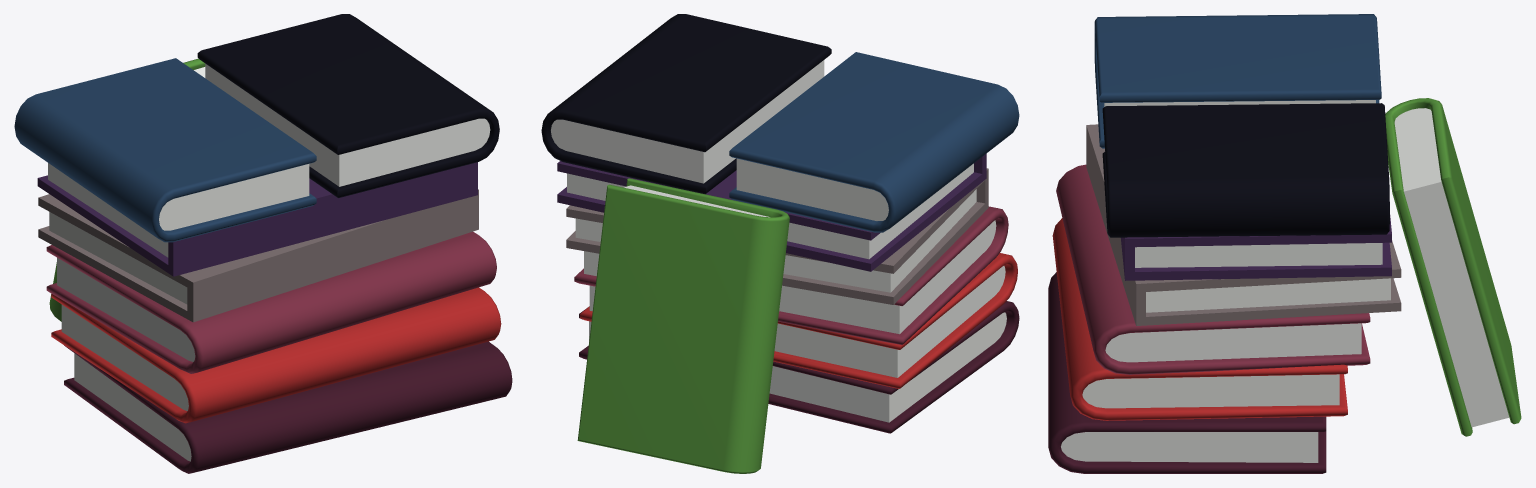
The model's file is 8livrosV1.fbx.
The picture shows the model from 3 angles, left to right: view 1: azimuth 30°, elevation 25°; view 2: azimuth 150°, elevation 25°; view 3: azimuth 270°, elevation 25°; orthographic projection. The views are drawn at different scales.
Parts seen in each view (by area): view 1: Cylinder.021; view 2: Cylinder.021; view 3: Cylinder.021.
Boxes of the visible parts, x1,y1,x2,y2 form: Cylinder.021: (14, 14, 512, 473); Cylinder.021: (541, 14, 1019, 473); Cylinder.021: (1048, 14, 1521, 473).
Size of the model in its own units: 76.97 by 57.9 by 82.98.
